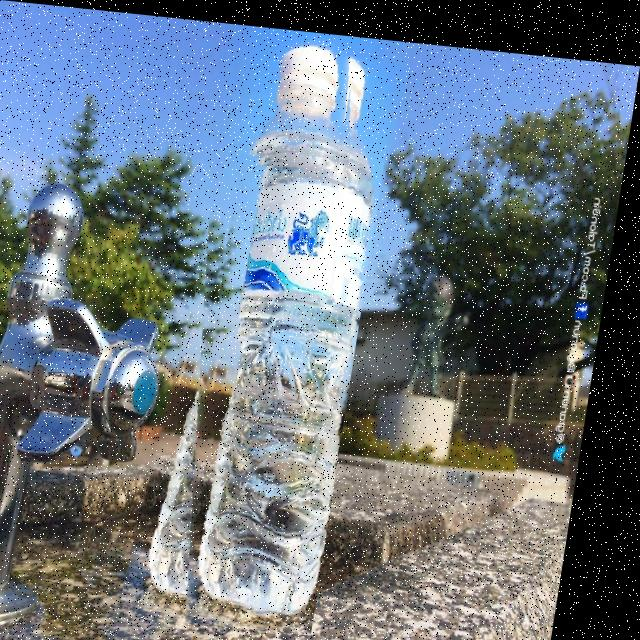litter: (149, 32, 401, 627), (229, 25, 357, 163)
